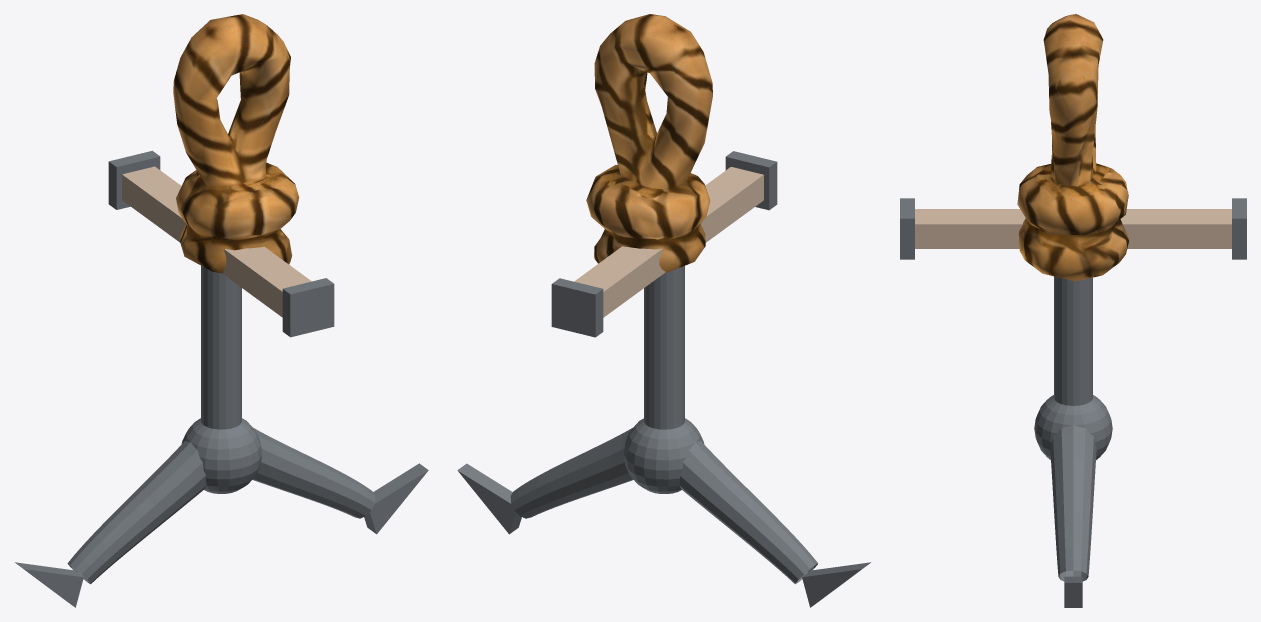
The model's file is anchor-v2.glb.
3 renders of one model, left to right at view 1: azimuth 30°, elevation 25°; view 2: azimuth 150°, elevation 25°; view 3: azimuth 270°, elevation 25°, orthographic. The views are drawn at different scales.
Visible parts, largest first — view 1: Anchor; view 2: Anchor; view 3: Anchor.
Boxes of the visible parts, bbox=[...] form: Anchor: bbox=[15, 14, 428, 607]; Anchor: bbox=[457, 14, 870, 607]; Anchor: bbox=[900, 14, 1246, 607].
Bounding box in the file's own units: 1.48 × 1.91 × 1.15.
2 materials, 1 textured.
